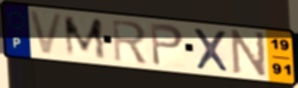M: (61, 15, 109, 61)
N: (231, 28, 268, 80)
P: (149, 22, 186, 68)
R: (111, 18, 150, 66)
V: (27, 9, 67, 57)
X: (191, 26, 232, 74)
